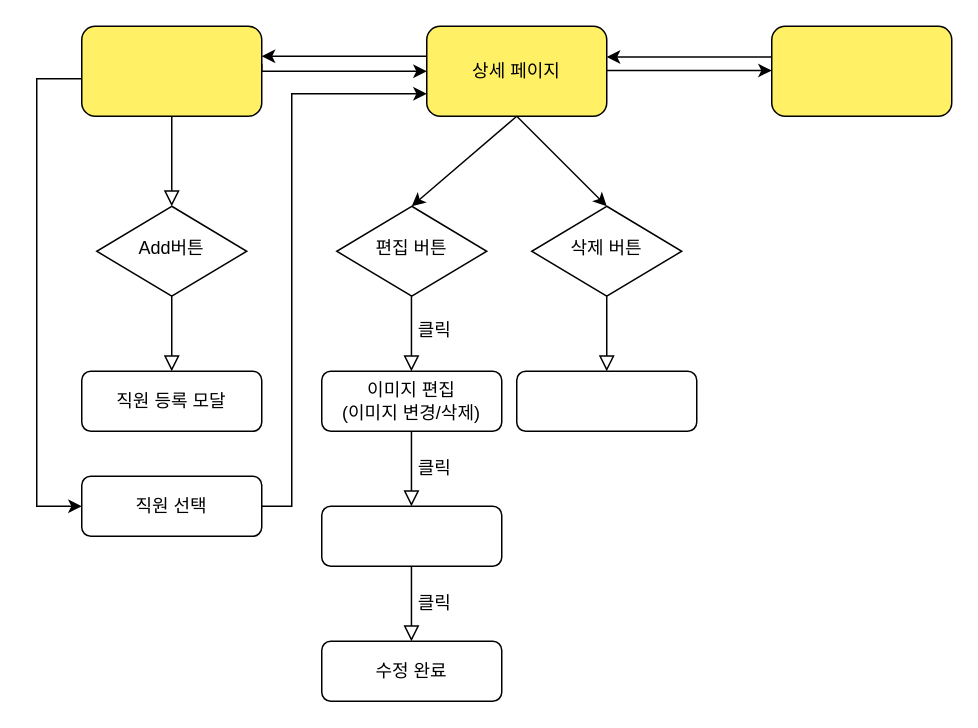
Some shapes in this 978 by 728 pixel diagram are drawn without their labels. The shapes that lost their labels are listed below. From the top down, each one's centre as x and y in pixels, then its label:
At pixel 171 70: "직원 리스트 (메인 페이지)".
At pixel 861 70: "playground".
At pixel 606 400: "직원 삭제".
At pixel 411 535: "텍스트 편집".
